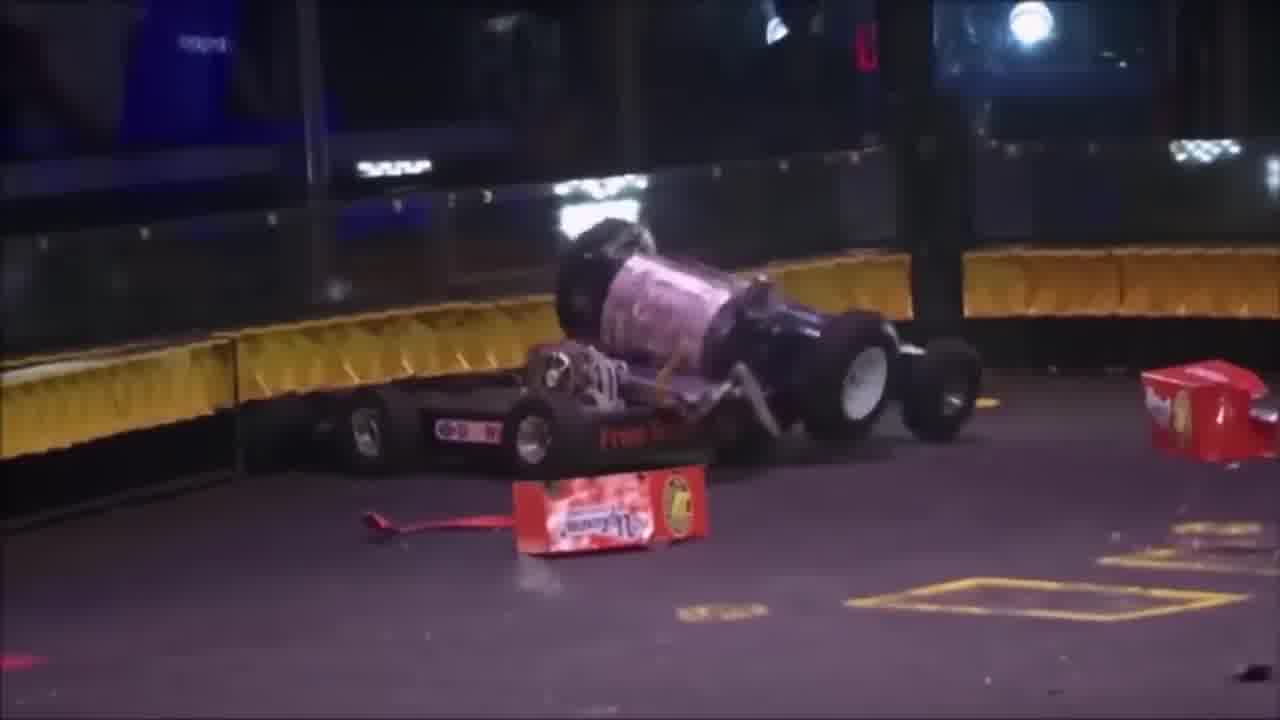combatbot: (553, 216, 989, 439), (308, 342, 780, 473)
debris: (514, 464, 715, 561), (1139, 355, 1280, 476), (358, 508, 405, 545)
